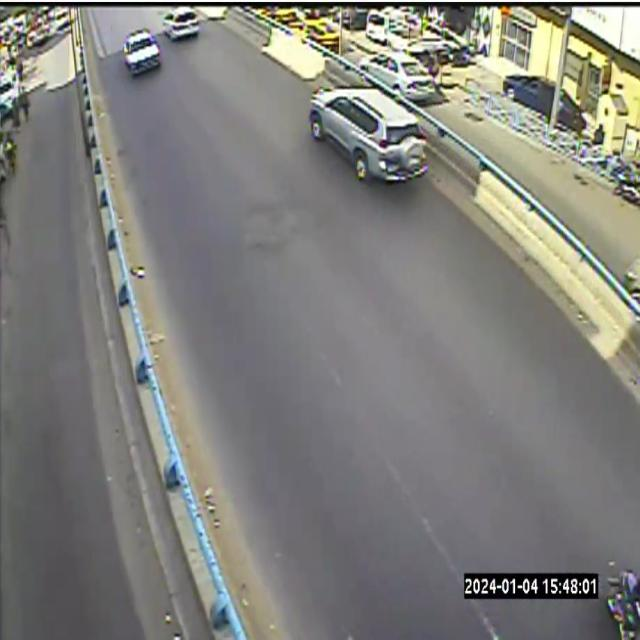car: (307, 66, 427, 200), (112, 37, 166, 86), (503, 76, 554, 118), (558, 89, 586, 134)
